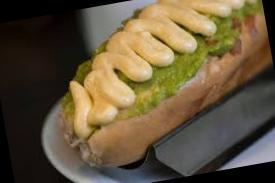Completos: (38, 0, 275, 173)
